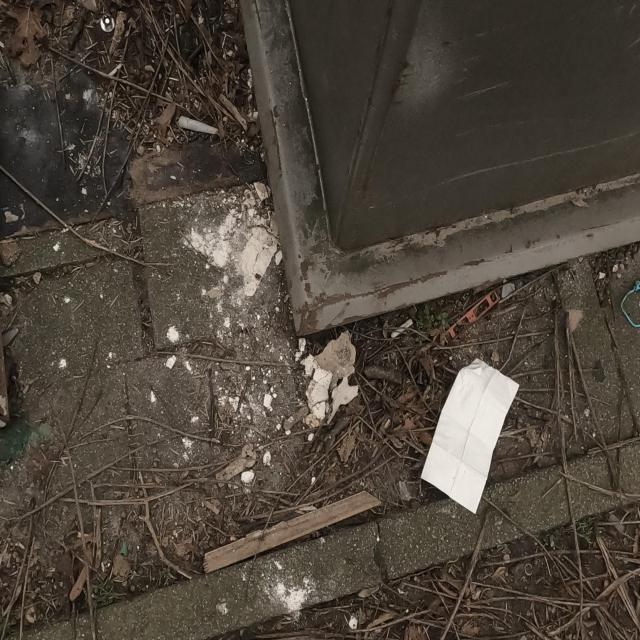Paper: (404, 366, 523, 513)
